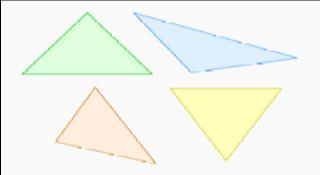Triangle: (135, 12, 296, 72), (172, 86, 279, 159), (23, 14, 152, 74), (54, 85, 152, 161)
